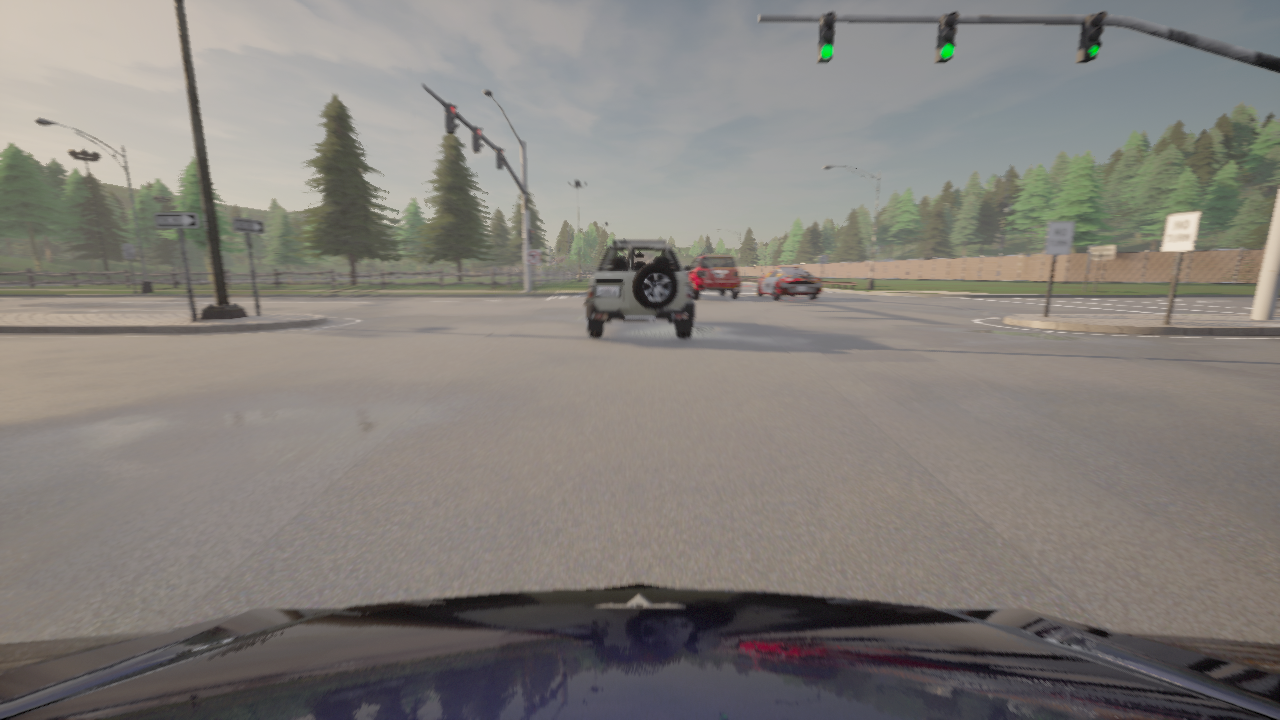cyclist: (0, 584, 1279, 719), (585, 240, 694, 338), (685, 255, 740, 299), (757, 266, 822, 299)
